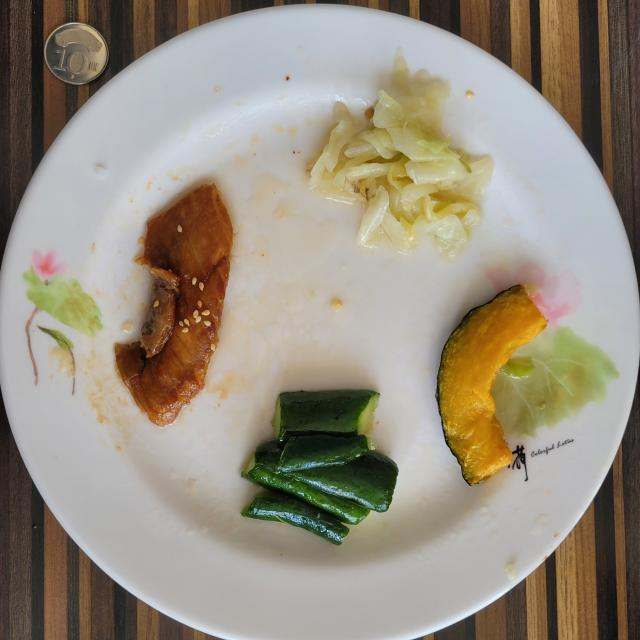Kabayaki sea bream fillet: (115, 184, 232, 425)
cabbage: (310, 51, 492, 252)
coin: (44, 22, 109, 85)
cucumber: (241, 390, 399, 545)
pumpkin: (438, 285, 548, 485)
